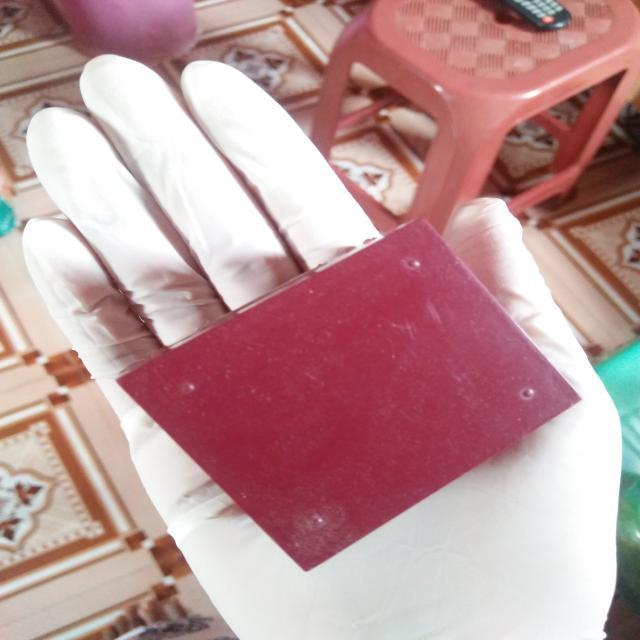glove_hand: (16, 43, 626, 637)
